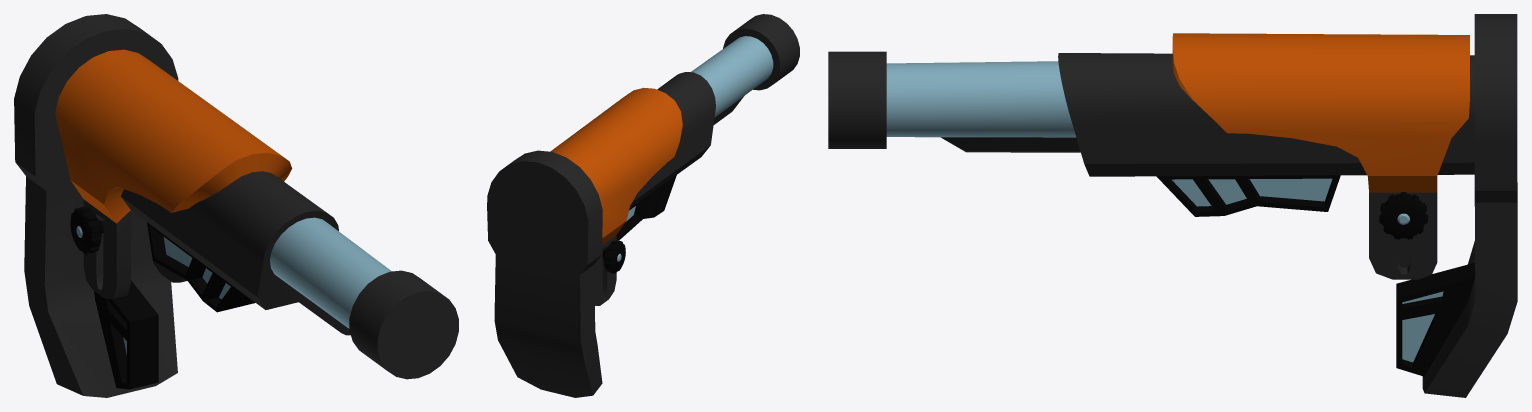
Rendered from stock_6.fbx.
3 views of the same model, side by side, from view 1: azimuth 30°, elevation 25°; view 2: azimuth 150°, elevation 25°; view 3: azimuth 270°, elevation 25° (orthographic). The views are drawn at different scales.
Visible parts, largest first — view 1: stock_6; view 2: stock_6; view 3: stock_6.
Part boxes in pixels (x1,y1,x2,y2): stock_6: (14, 14, 458, 397); stock_6: (487, 14, 799, 397); stock_6: (828, 14, 1517, 397).
Size of the model in its own units: 293 by 681 by 1172.
